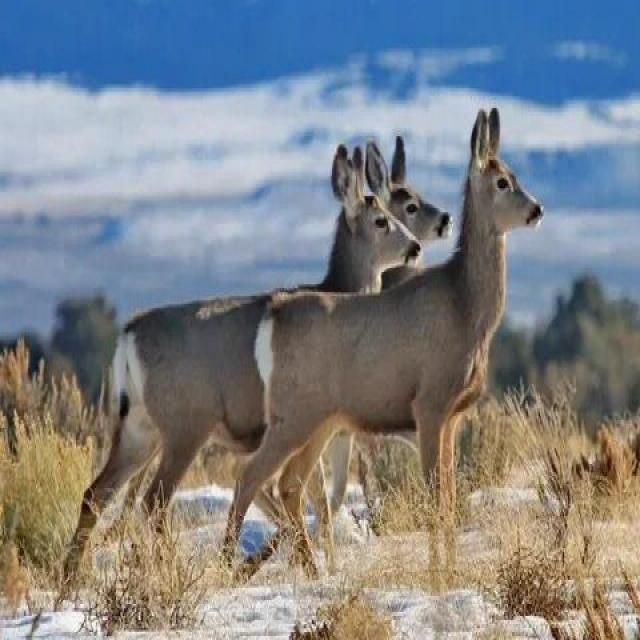deer: (239, 116, 582, 524), (85, 188, 403, 520), (288, 124, 492, 431)
